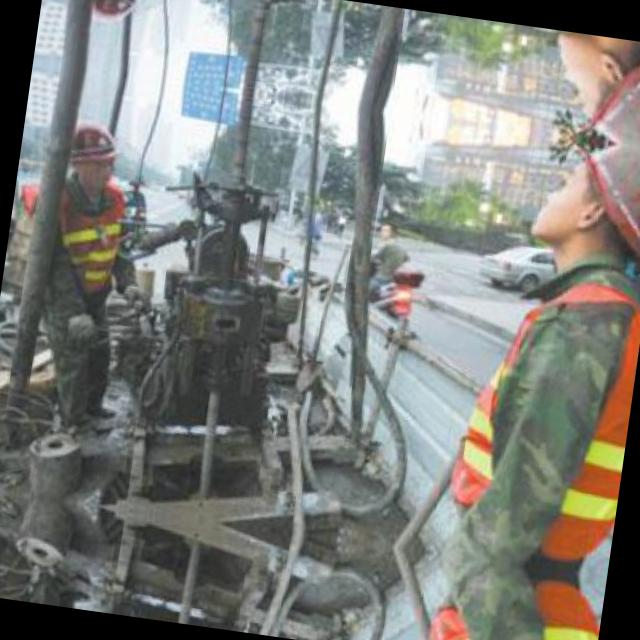helmet: (508, 139, 640, 288), (527, 28, 640, 143), (68, 114, 121, 182), (88, 0, 142, 31)
